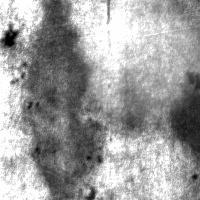patches: (21, 1, 99, 198), (77, 0, 200, 123), (158, 68, 200, 158), (109, 64, 154, 140), (1, 21, 21, 50)
